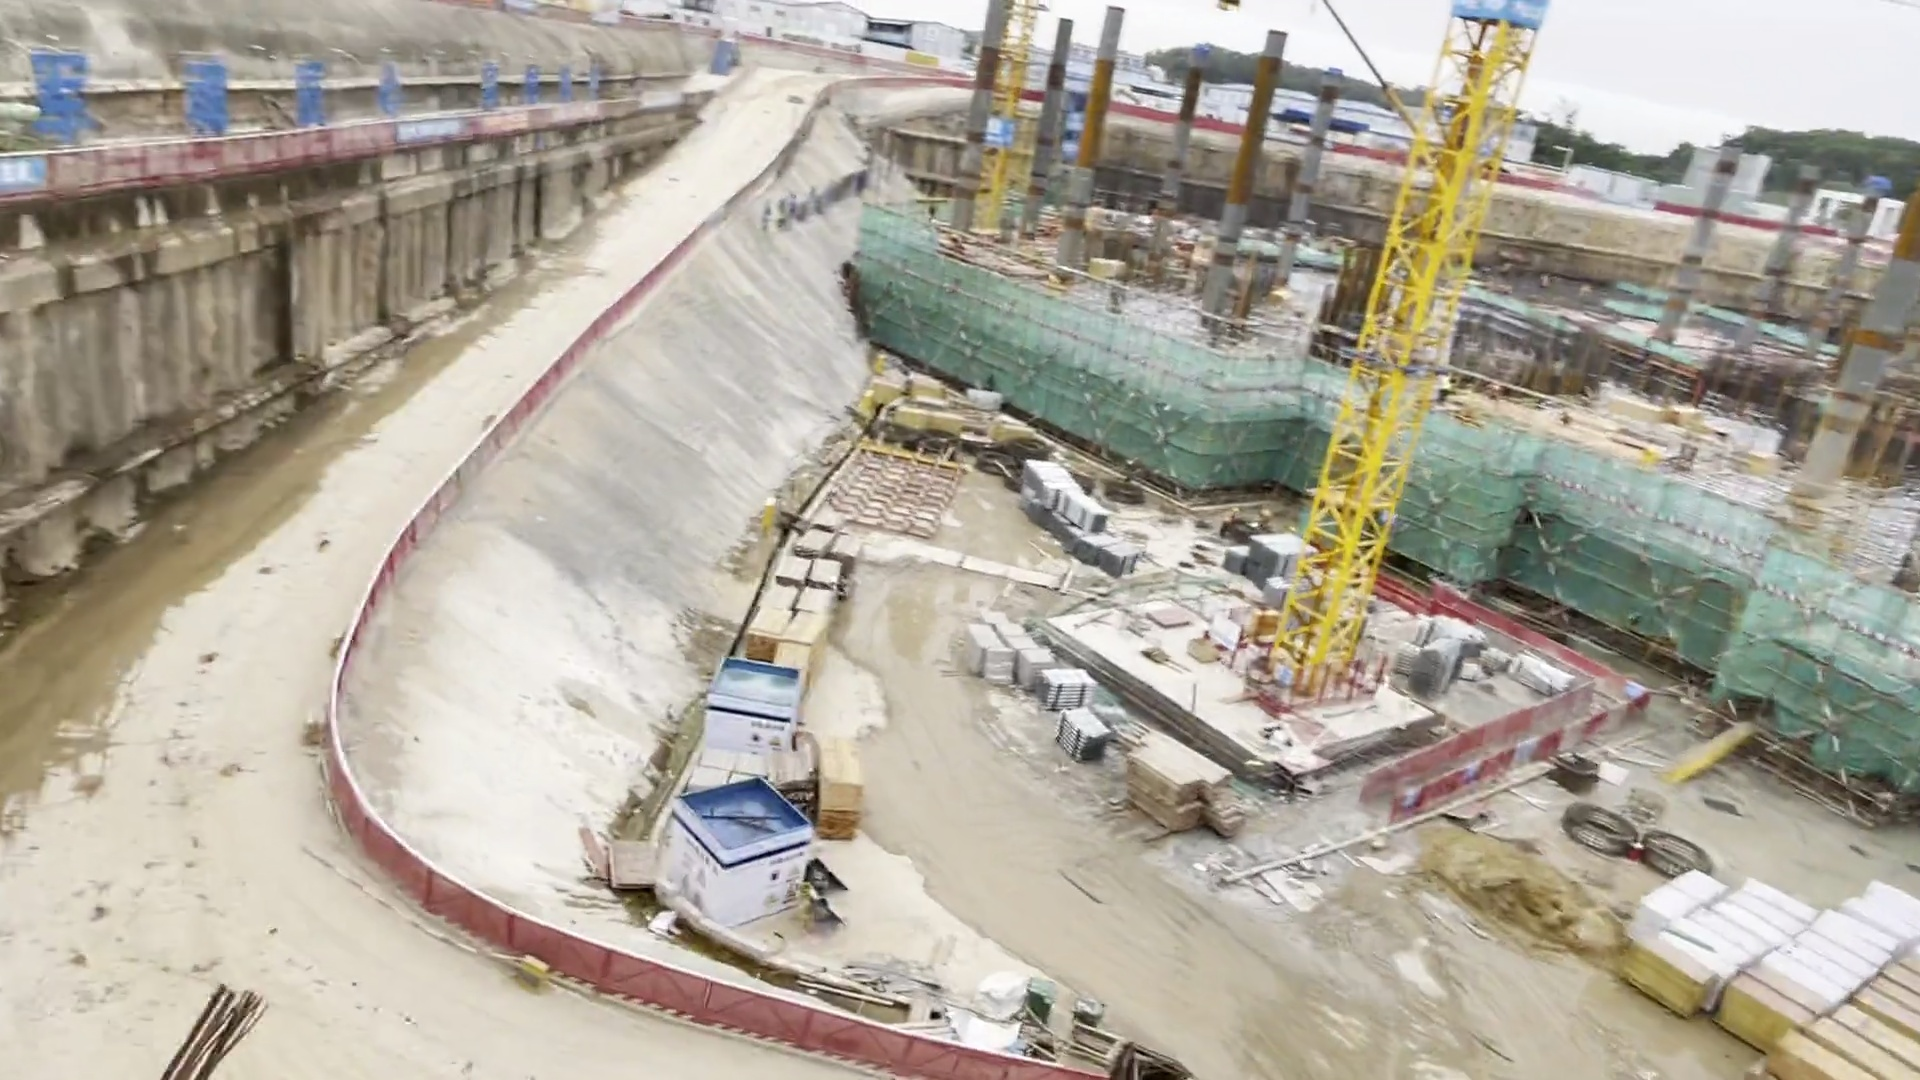board: (1614, 920, 1727, 1025), (1726, 960, 1820, 1052), (1766, 1013, 1818, 1080)
fence: (345, 742, 1114, 1080), (1385, 556, 1654, 853), (24, 73, 708, 174)
slogan: (673, 773, 823, 928), (696, 650, 799, 765)
wood: (1131, 731, 1247, 837)
